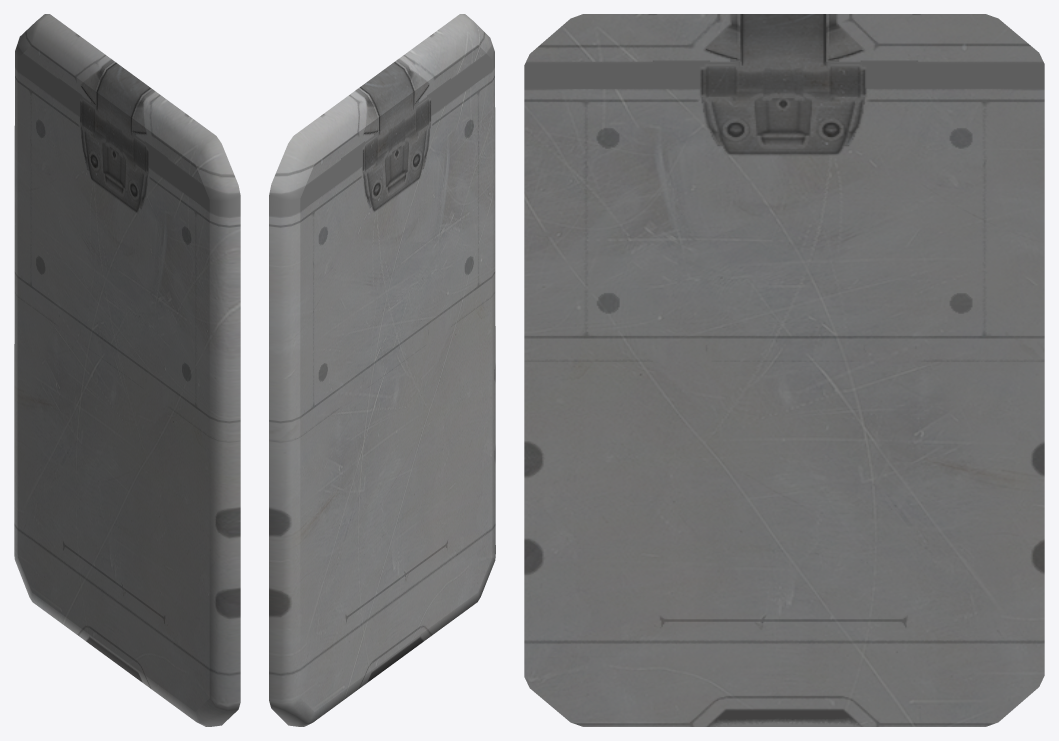
Rendered from SM_Wall_Small12.fbx.
3 renders of one model, left to right at view 1: azimuth 30°, elevation 25°; view 2: azimuth 150°, elevation 25°; view 3: azimuth 270°, elevation 25°, orthographic. The views are drawn at different scales.
Parts seen in each view (by area): view 1: SM_Wall_Small12_LOD0; view 2: SM_Wall_Small12_LOD0; view 3: SM_Wall_Small12_LOD0.
Boxes of the visible parts, x1,y1,x2,y2 form: SM_Wall_Small12_LOD0: (14,14,240,726); SM_Wall_Small12_LOD0: (269,14,495,726); SM_Wall_Small12_LOD0: (524,14,1044,726).
Bounding box in the file's own units: 7.45 × 142 × 215.
